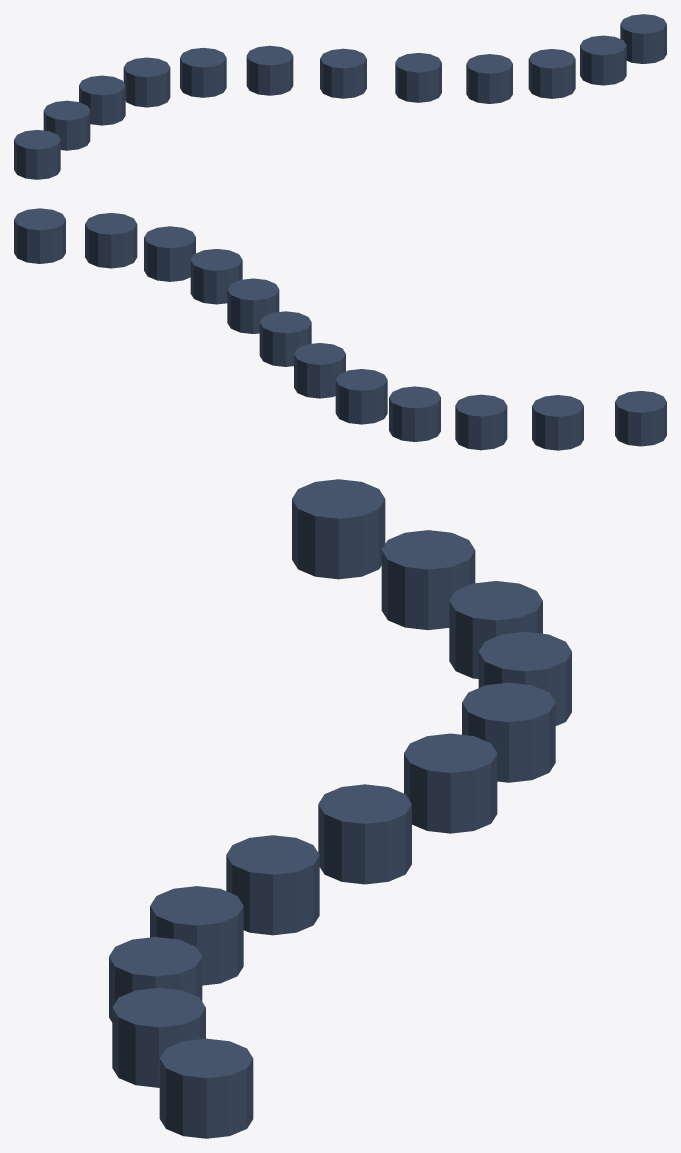
The model's file is cable.glb.
3 views of the same model, one above another, from view 1: azimuth 30°, elevation 25°; view 2: azimuth 150°, elevation 25°; view 3: azimuth 270°, elevation 25° (orthographic). The views are drawn at different scales.
Visible parts, largest first — view 1: Cable segment; view 2: Cable segment; view 3: Cable segment.
Boxes of the visible parts, x1,y1,x2,y2 form: Cable segment: [14, 14, 666, 179]; Cable segment: [14, 208, 666, 450]; Cable segment: [109, 479, 571, 1138].
Bounding box in the file's own units: 1.06 × 0.05 × 0.3465.
